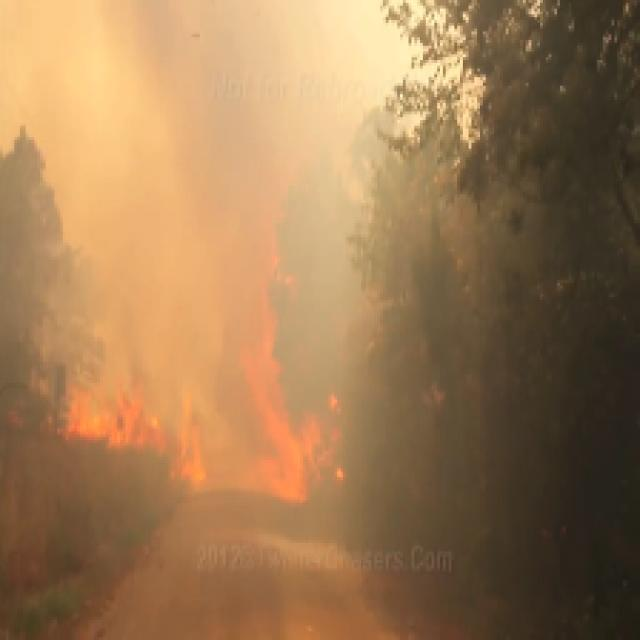Fire: (17, 317, 386, 563)
Smoke: (0, 0, 523, 640)
